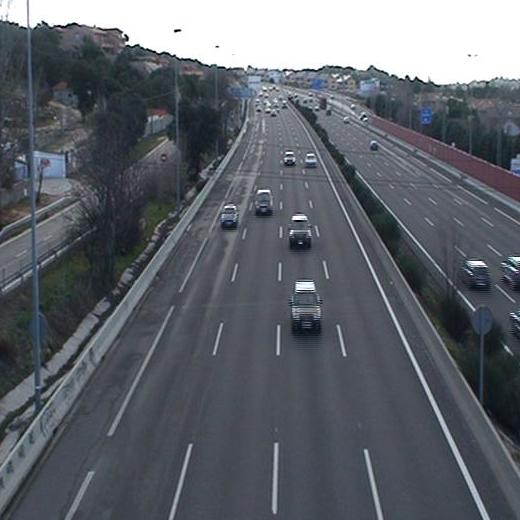car: (288, 281, 323, 333), (287, 213, 312, 248), (253, 189, 275, 216), (220, 203, 239, 228), (282, 151, 297, 166), (305, 153, 317, 169)
